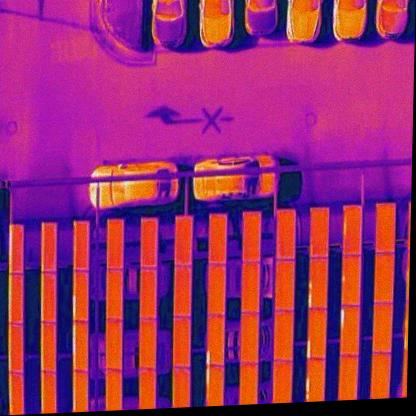Diode: (307, 308, 328, 360), (339, 304, 360, 356), (341, 205, 362, 256), (205, 315, 225, 367), (309, 257, 328, 308), (305, 358, 325, 402), (8, 224, 25, 275), (73, 269, 89, 323), (72, 319, 88, 373), (205, 365, 224, 406)
Hotspot: (340, 254, 362, 307)
Normal: (308, 206, 329, 260), (374, 202, 396, 253), (273, 259, 294, 311), (241, 210, 262, 262), (275, 208, 296, 260), (172, 315, 192, 369), (240, 261, 260, 314), (373, 254, 394, 304), (174, 264, 193, 319), (208, 213, 228, 265), (273, 310, 293, 362), (207, 263, 226, 317), (139, 266, 158, 320), (7, 273, 26, 325), (138, 317, 157, 369), (338, 354, 359, 401), (240, 313, 259, 364), (174, 216, 193, 266), (372, 303, 391, 353), (40, 222, 58, 274), (73, 220, 91, 272), (140, 216, 158, 268), (370, 353, 390, 399), (39, 272, 57, 323), (105, 319, 123, 370), (106, 268, 123, 321), (40, 322, 57, 374), (7, 322, 24, 374), (107, 218, 124, 269), (272, 361, 292, 403), (240, 363, 259, 405), (172, 367, 191, 408), (104, 369, 122, 411), (40, 371, 57, 414), (138, 369, 156, 409), (8, 373, 24, 415), (71, 371, 87, 412)
